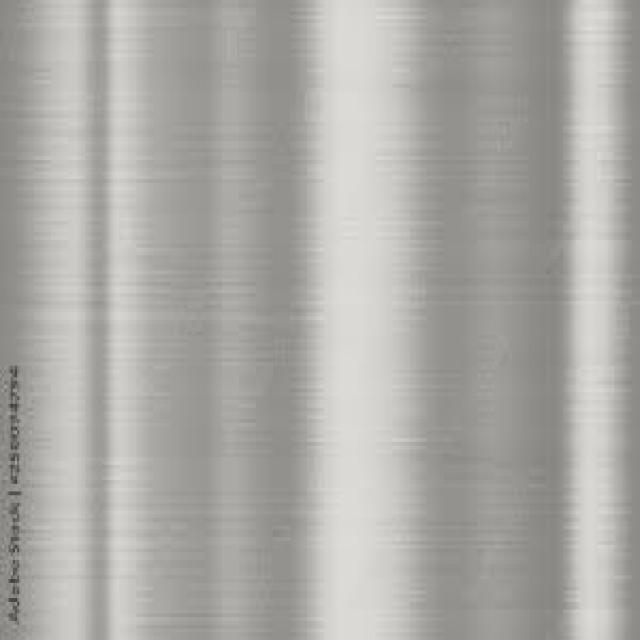Dry: (21, 0, 627, 640)
